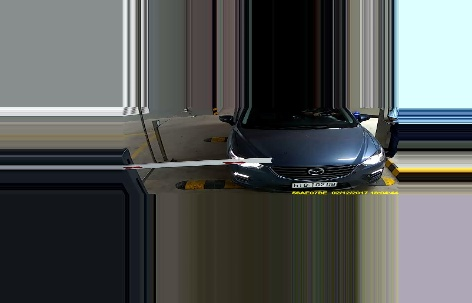plate: (292, 179, 337, 189)
